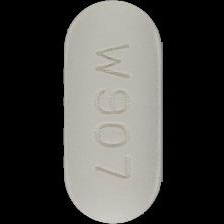64679-907: (0, 0, 224, 224)
